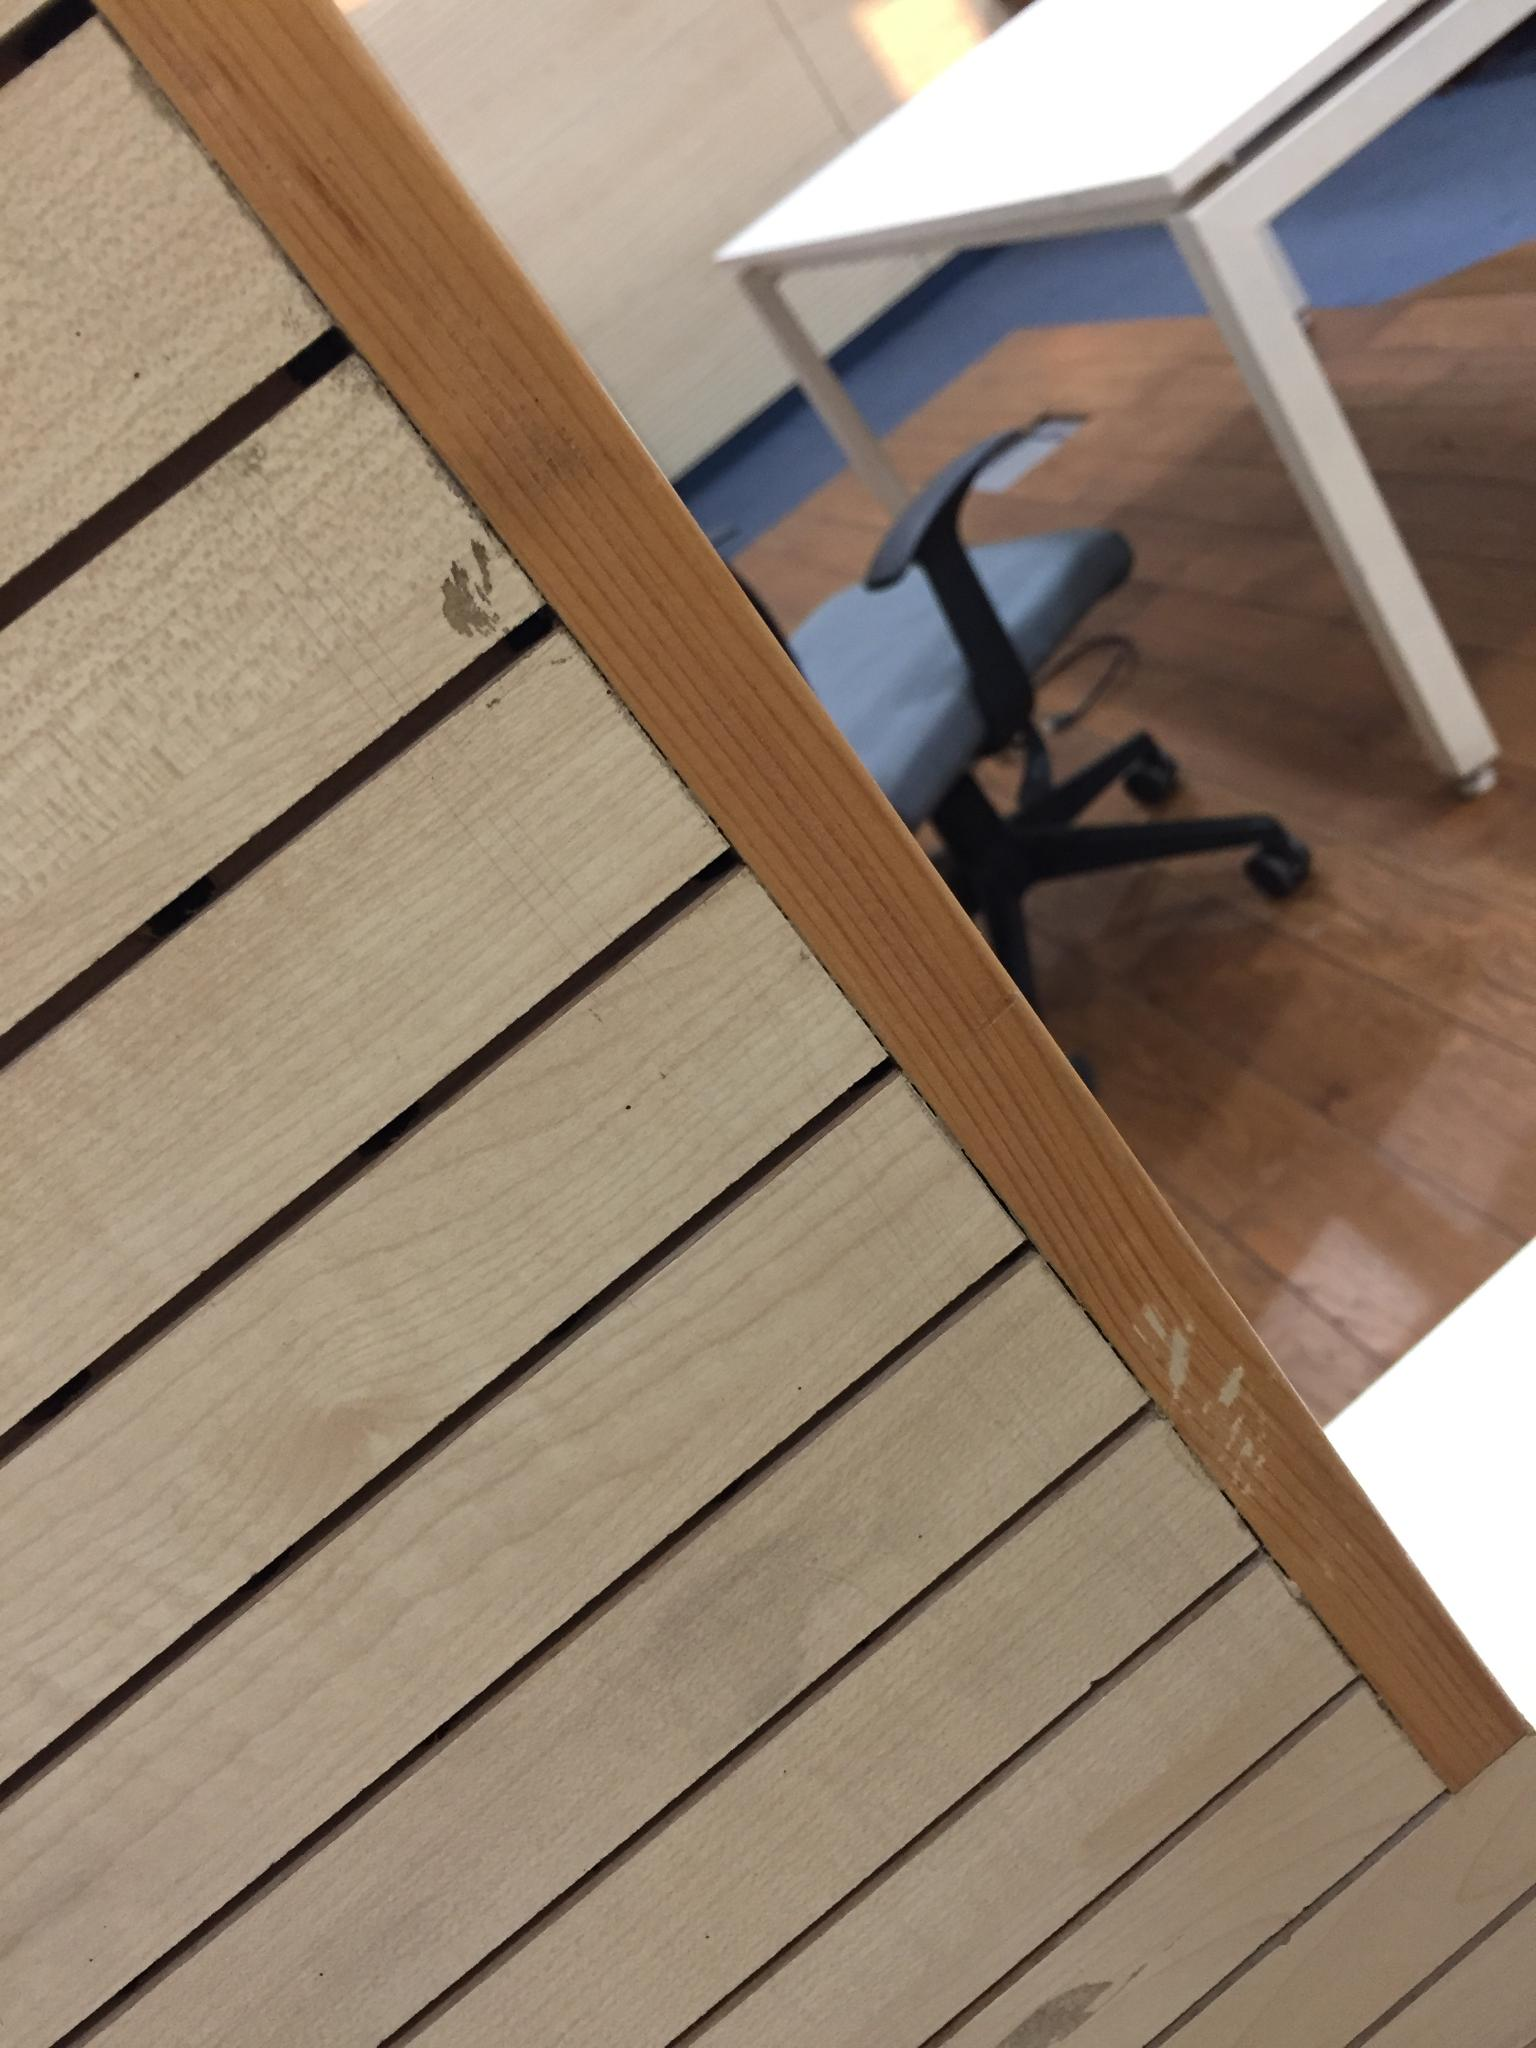chair: (747, 411, 1312, 1029)
